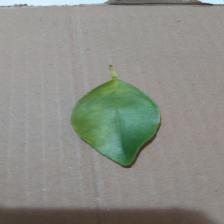greening: (68, 62, 166, 169)
